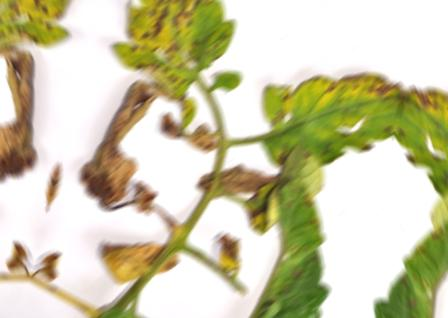Tomato Septoria leaf spot: (218, 134, 369, 318), (240, 43, 406, 200), (96, 0, 257, 105)
